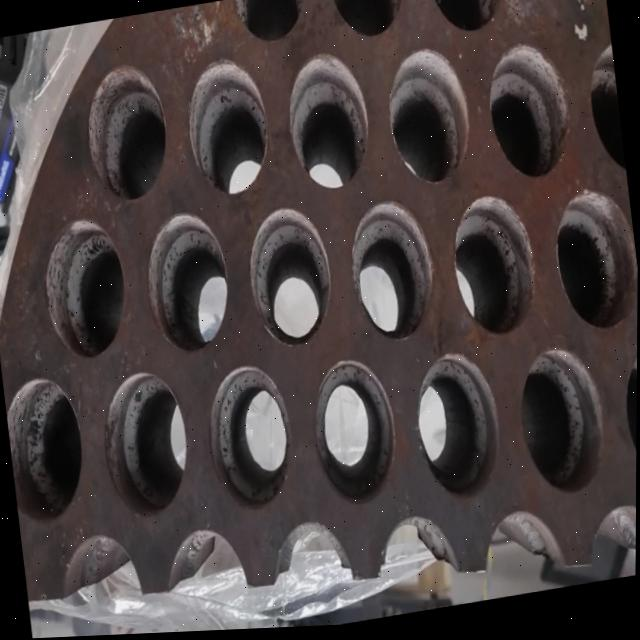Hole: (409, 350, 508, 511), (202, 361, 300, 520), (515, 347, 613, 506), (97, 368, 196, 525), (307, 356, 404, 515), (344, 197, 442, 351), (446, 193, 543, 348), (37, 212, 134, 367), (140, 208, 237, 361), (242, 204, 338, 356), (79, 60, 175, 211), (281, 49, 377, 199), (180, 54, 275, 204), (481, 41, 576, 191), (381, 46, 477, 194), (2, 372, 91, 529), (549, 188, 639, 343), (582, 47, 628, 188), (230, 0, 310, 51), (328, 0, 411, 48), (424, 0, 510, 44), (618, 349, 638, 500)
